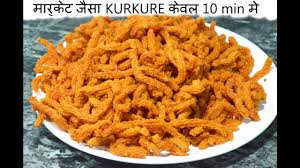kurkure: (55, 32, 250, 134), (104, 1, 165, 16)
